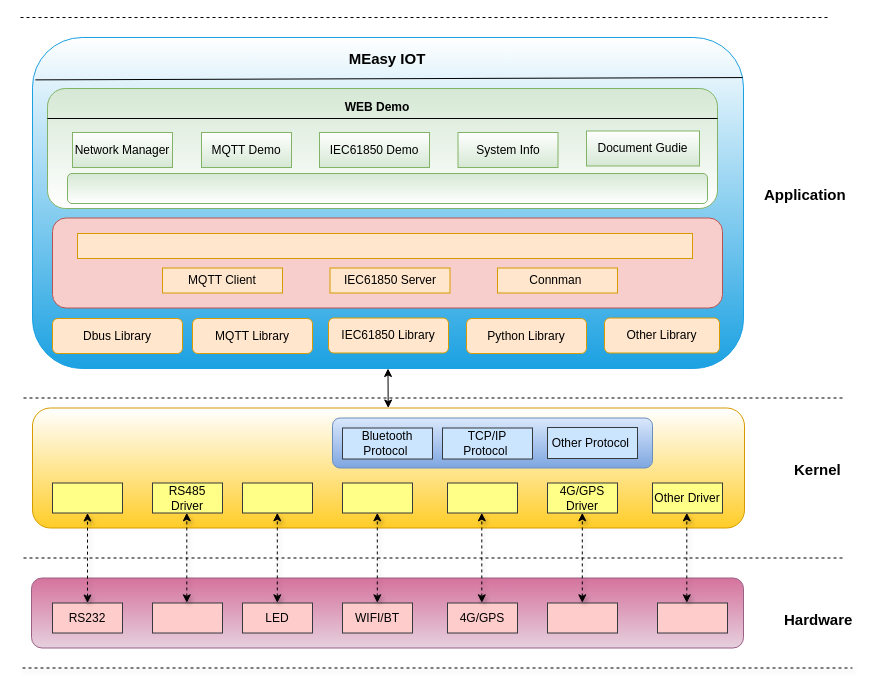
Image size: 880x694. Some labels were removed from this diagram. Here are the shapes that lost their labels. From the top down, the centre of each, then its label:
At (387,188): "Python2(Flask、Flask-Appbuilder、Bootstrap、JS...)".
At (384,245): "Dbus Dameon".
At (87,497): "RS232 Driver".
At (277,497): "LED Driver".
At (377,497): "WIFI/BT Driver".
At (482,497): "Ethernet Driver".
At (187,617): "RS485".
At (582,617): "Ethernet".
At (692,617): "Other".
